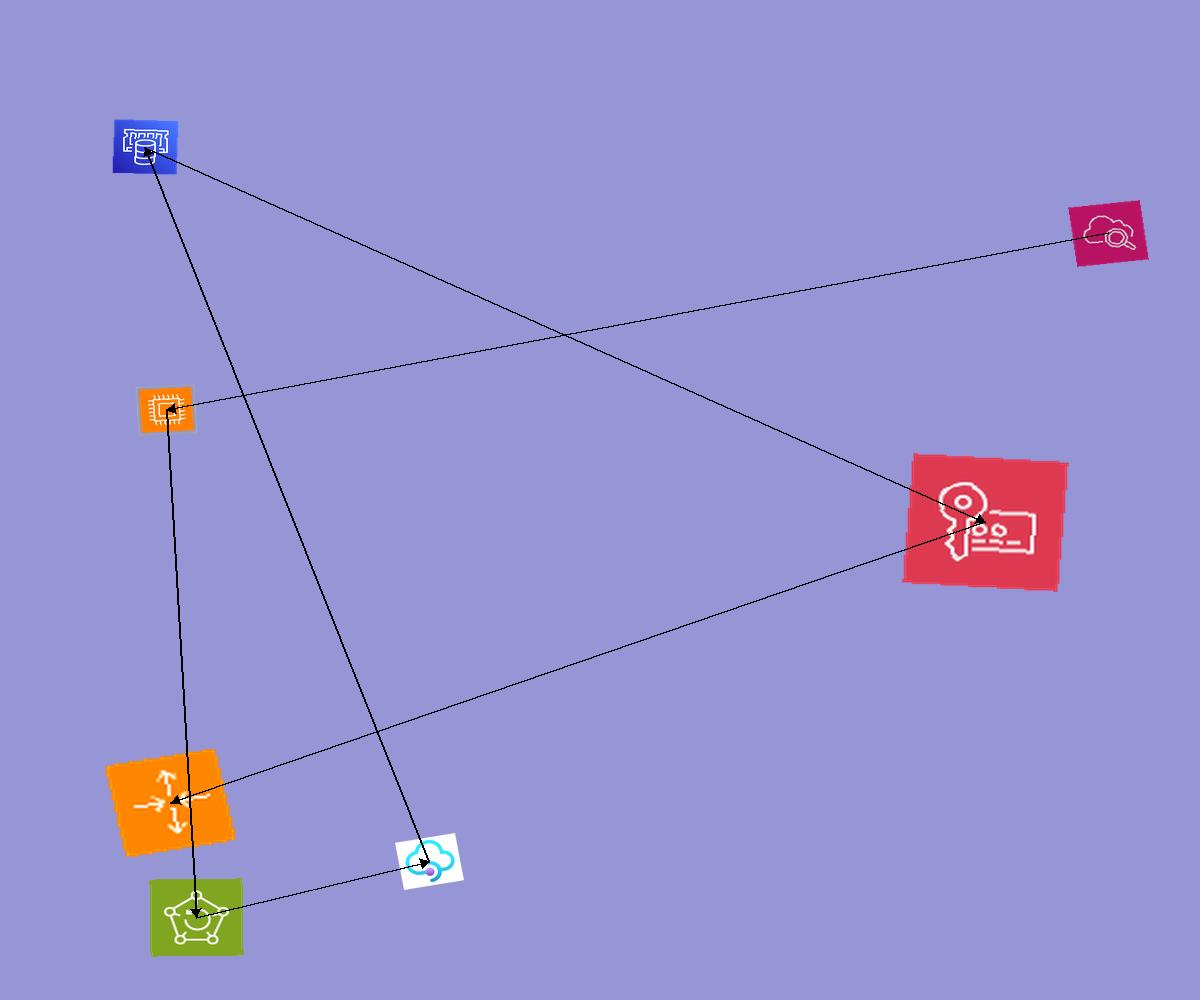AWS-Backup: (149, 878, 244, 957)
AWS-Category_Compute: (135, 384, 198, 436)
AWS-CloudWatch: (1068, 200, 1149, 267)
AWS-ElastiCache: (112, 119, 179, 175)
AWS-Key-Management-Service: (902, 453, 1069, 592)
AWS-Scaling-group: (103, 747, 238, 859)
Azure_api_gateway: (395, 833, 464, 890)
